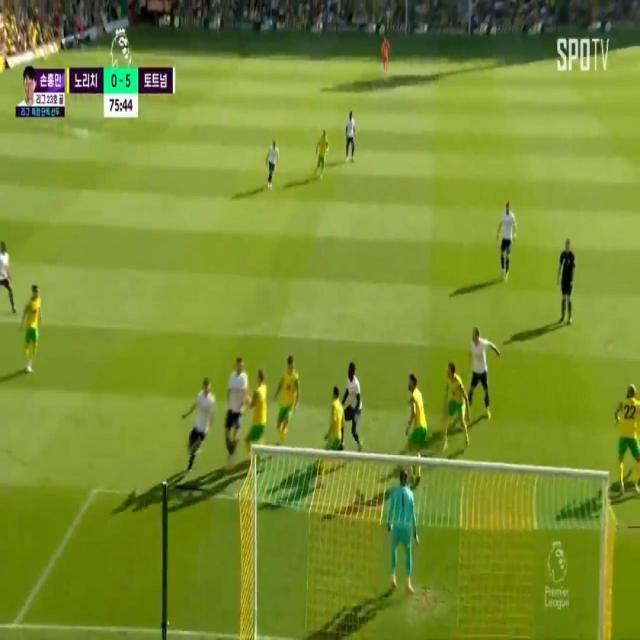goalkeeper: (379, 462, 420, 603), (375, 34, 394, 80)
player: (438, 360, 469, 455), (616, 379, 640, 484), (228, 348, 251, 447), (468, 327, 490, 421), (276, 354, 298, 441), (193, 370, 212, 468), (342, 362, 367, 436), (251, 367, 270, 451), (409, 373, 430, 447), (498, 198, 515, 284), (0, 243, 19, 314), (328, 381, 343, 465), (26, 284, 39, 369), (265, 136, 279, 193), (343, 109, 357, 158), (317, 131, 331, 177)
referee: (559, 234, 572, 324)
